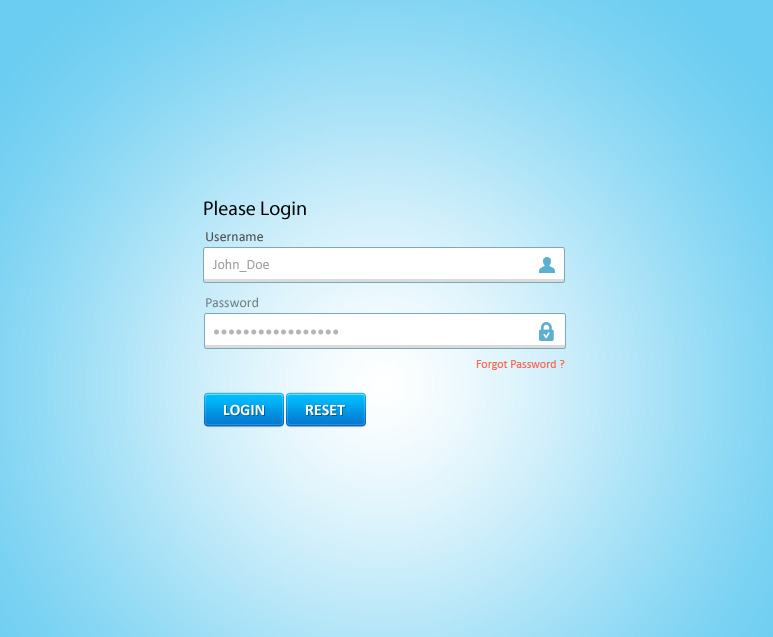_form_: (175, 172, 578, 452)
field: (200, 243, 566, 284), (203, 311, 568, 350), (203, 393, 285, 428), (285, 393, 367, 427)
field_with_label: (198, 230, 569, 286), (202, 297, 570, 352)
